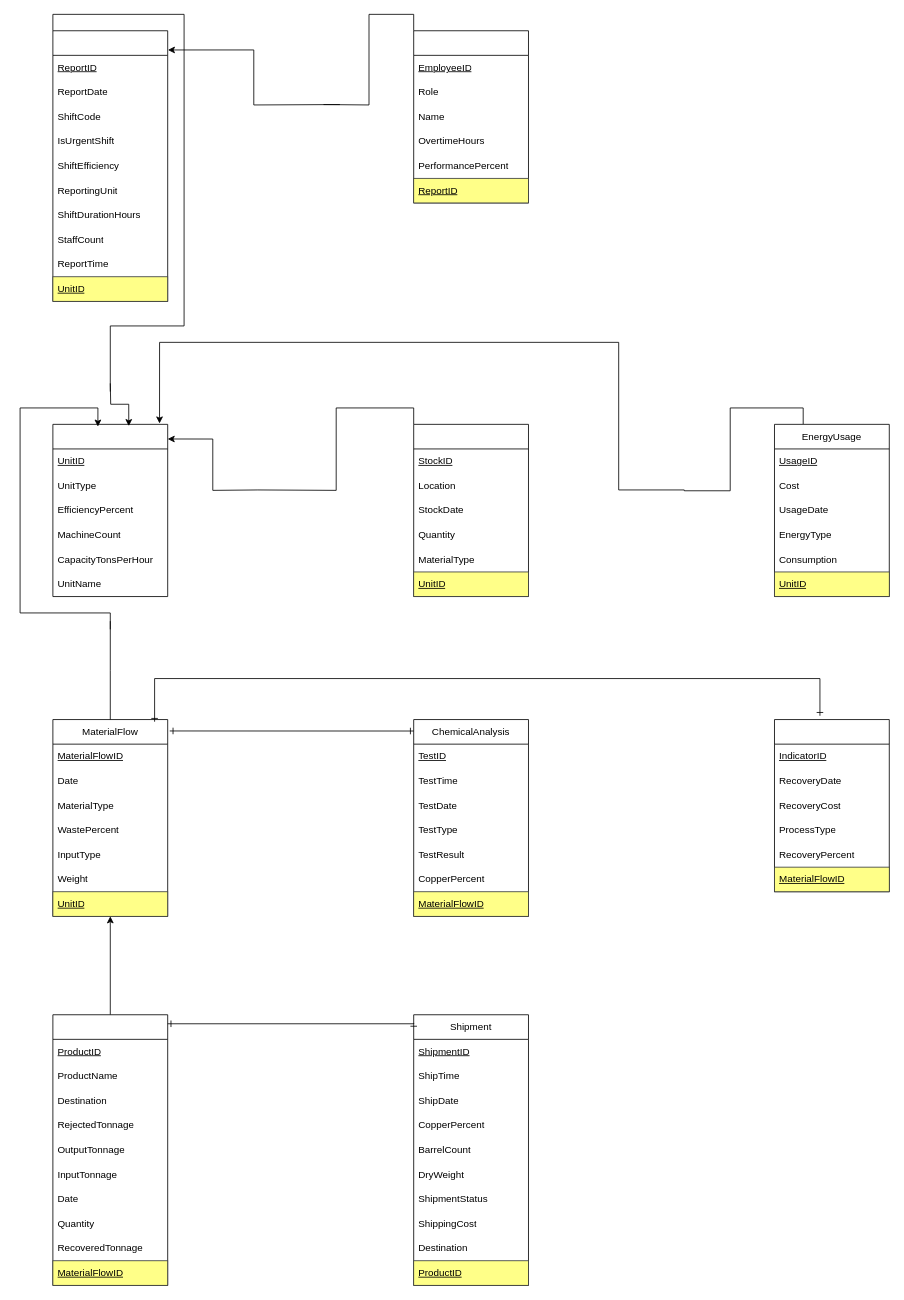
Some shapes in this 904 by 1300 pixel diagram are drawn without their labels. Each missing label, with the box of its shape:
ProcessUnit: (52, 424, 168, 597)
ProductFlow: (52, 1014, 168, 1285)
RecoveryIndicators: (774, 719, 889, 892)
ShiftReport: (52, 30, 168, 301)
ShiftStaff: (413, 30, 528, 203)
WarehouseStock: (413, 424, 528, 597)
